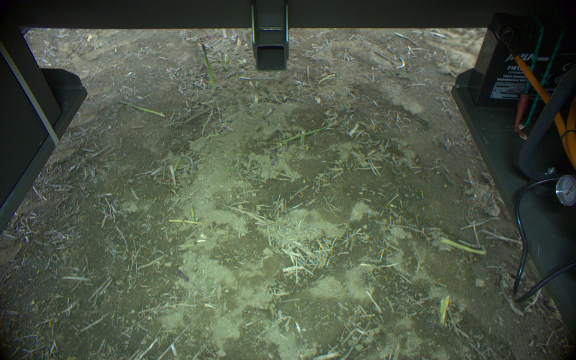aspa: (437, 233, 488, 255), (283, 122, 332, 144), (200, 40, 218, 97), (116, 97, 164, 117), (438, 293, 452, 327), (168, 217, 204, 225), (299, 128, 305, 146)
